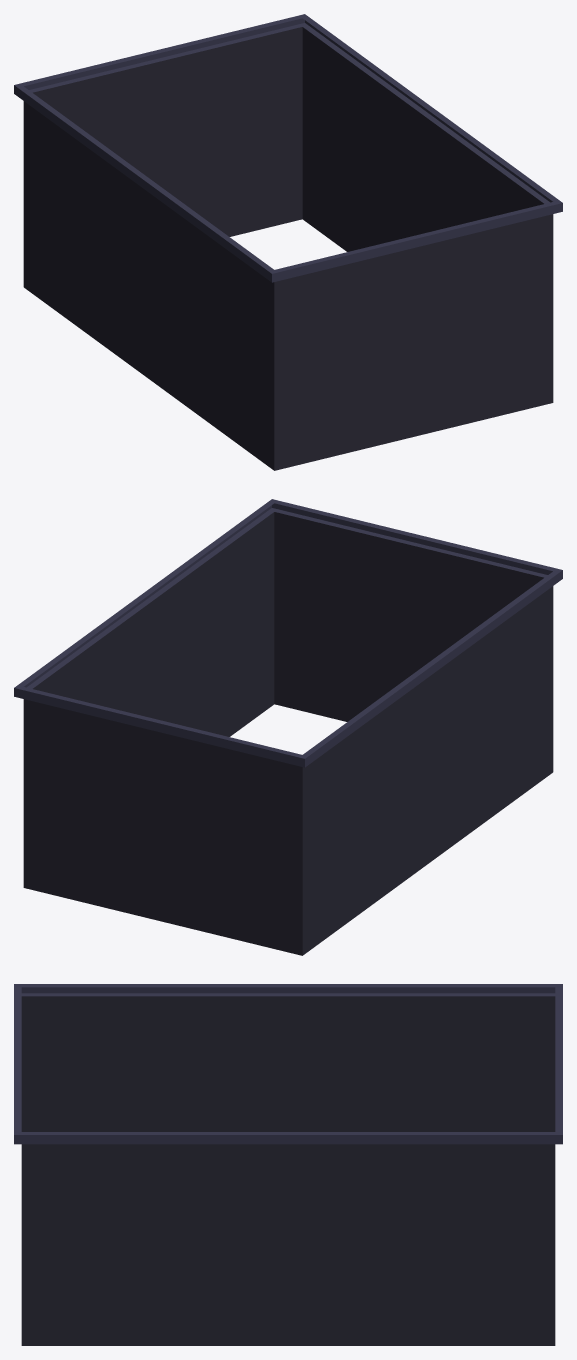
File: Burned_Regular_House1.fbx
3 views of the same model, one above another, from view 1: azimuth 30°, elevation 25°; view 2: azimuth 150°, elevation 25°; view 3: azimuth 270°, elevation 25° (orthographic). The views are drawn at different scales.
Parts seen in each view (by area): view 1: Cube.049; view 2: Cube.049; view 3: Cube.049.
Boxes of the visible parts, x1=… form: Cube.049: x1=14, y1=14, x2=562, y2=470; Cube.049: x1=14, y1=499, x2=562, y2=955; Cube.049: x1=14, y1=984, x2=562, y2=1345.
Size of the model in its own units: 978 by 646 by 1503.
